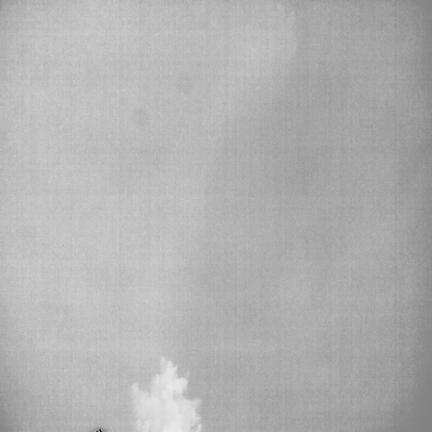flukeprints: (132, 357, 200, 431)
